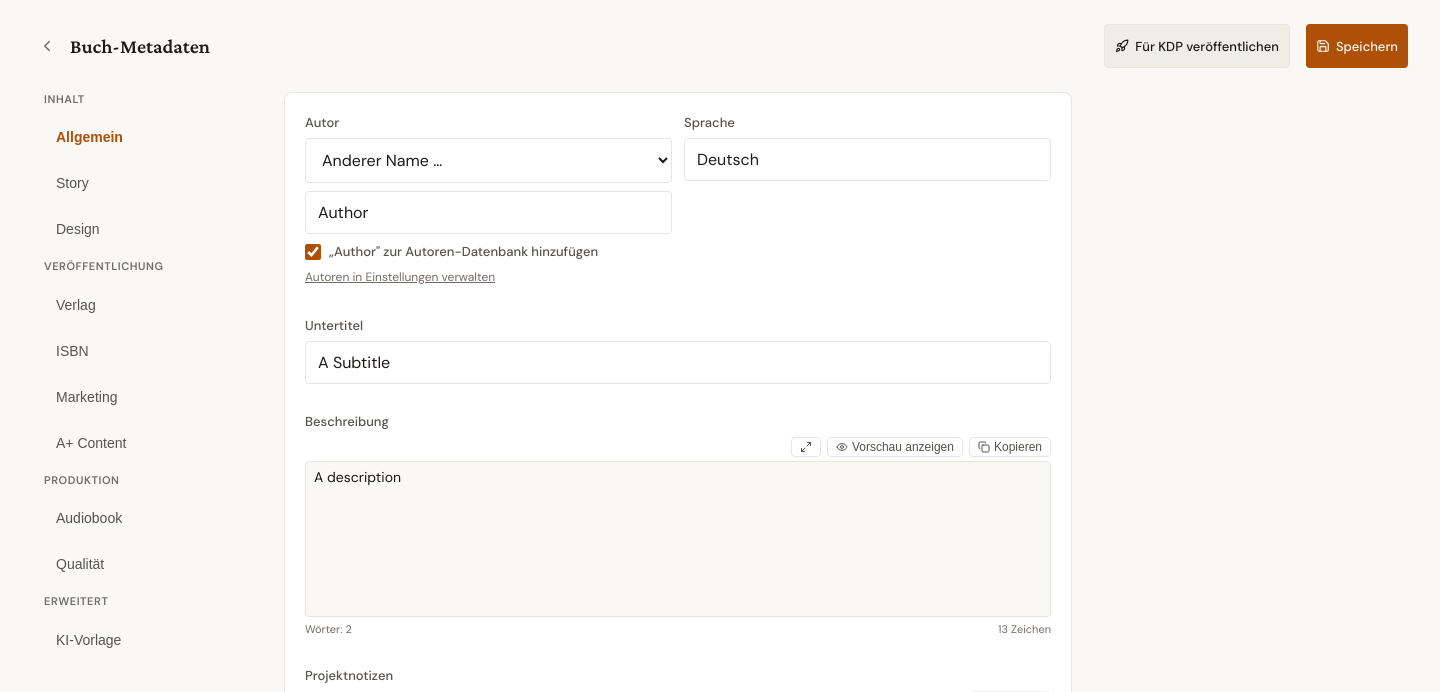
Scenario: BookMetadataEditor › A+ Content opens from the Veröffentlichung nav with an editable document
Click the button with test id "metadata-tab-aplus".
click(142, 443)  # box [32,421,252,465]
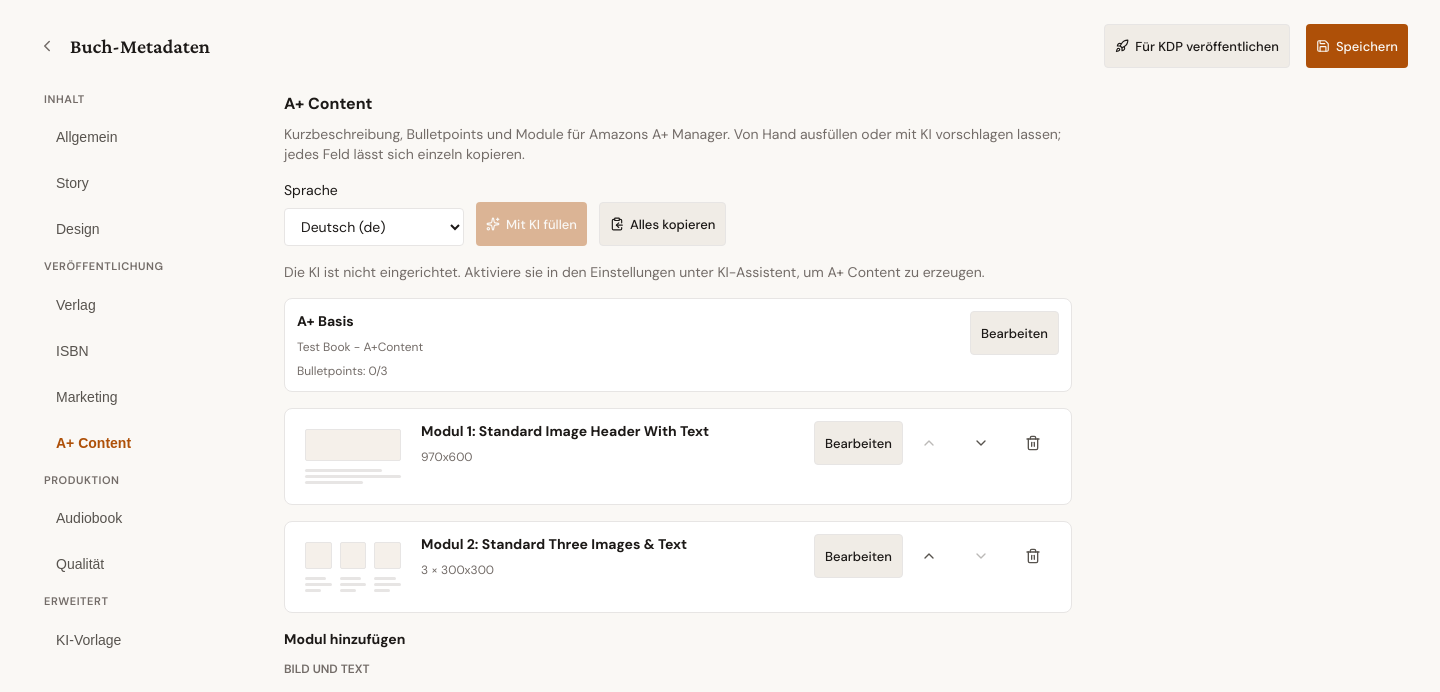
Click the button with test id "aplus-basics-toggle".
click(1014, 333)  # box [970,311,1059,355]
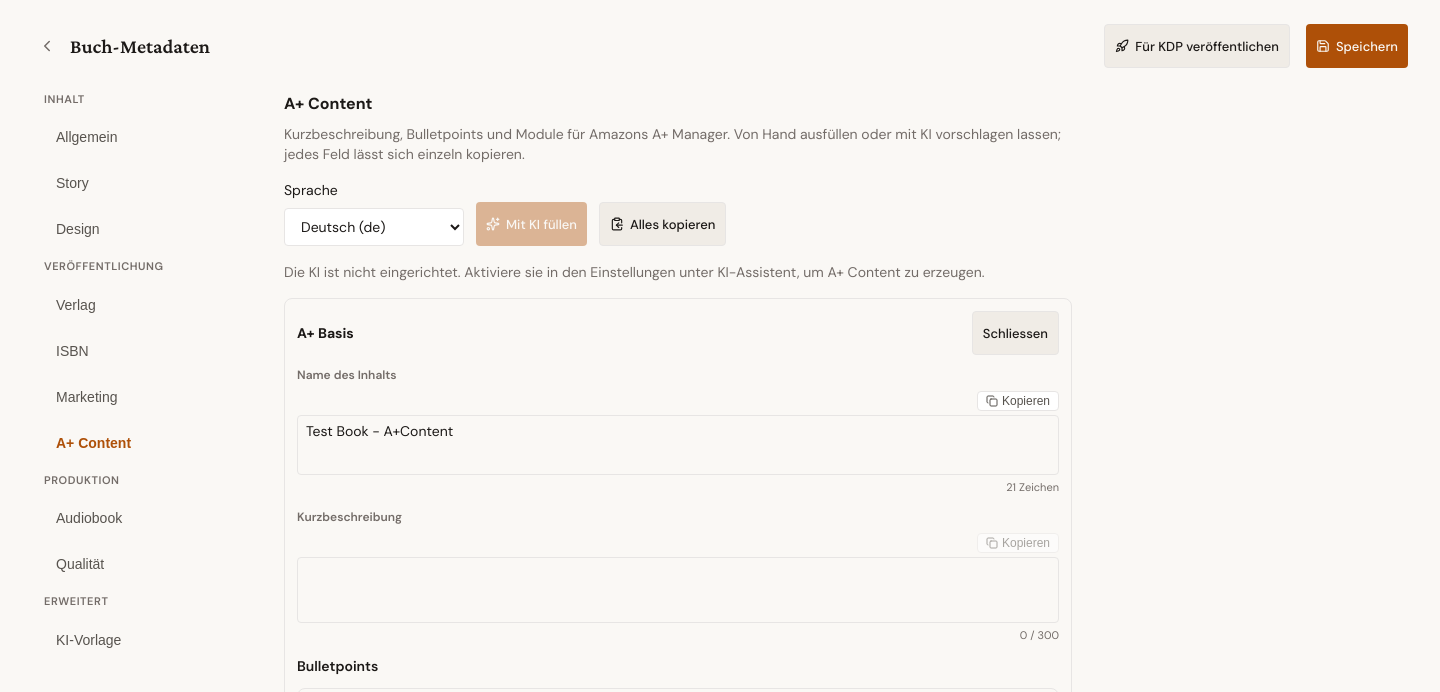
Result: the button with test id "aplus-ai-fill" is disabled at [476,202,587,246]
Result: the text with test id "aplus-ai-unavailable" is shown at [284,262,1072,282]
Result: the text box with test id "aplus-content-name" is shown at [297,415,1059,475]
